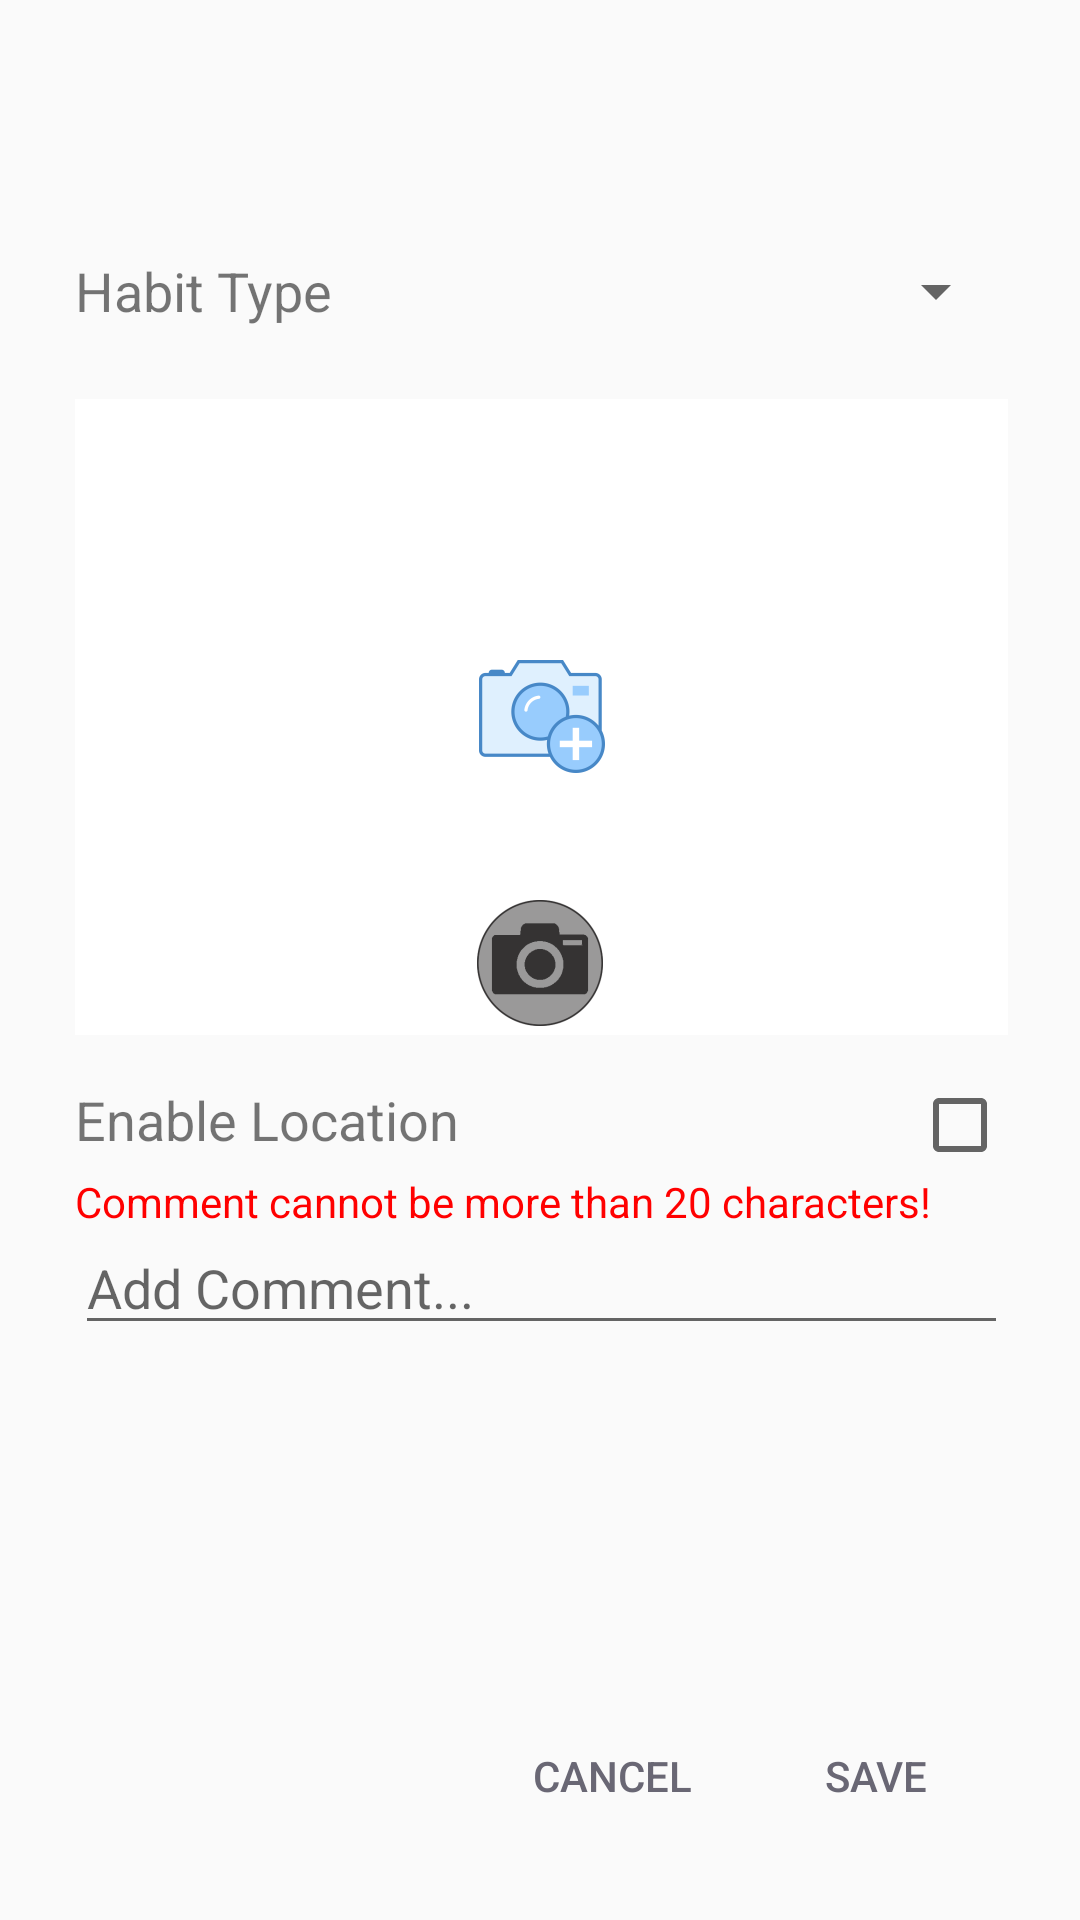

Where to tap for icons on this 1080px×1920px app screen, as point (x, y):
capture: point (540, 963)
